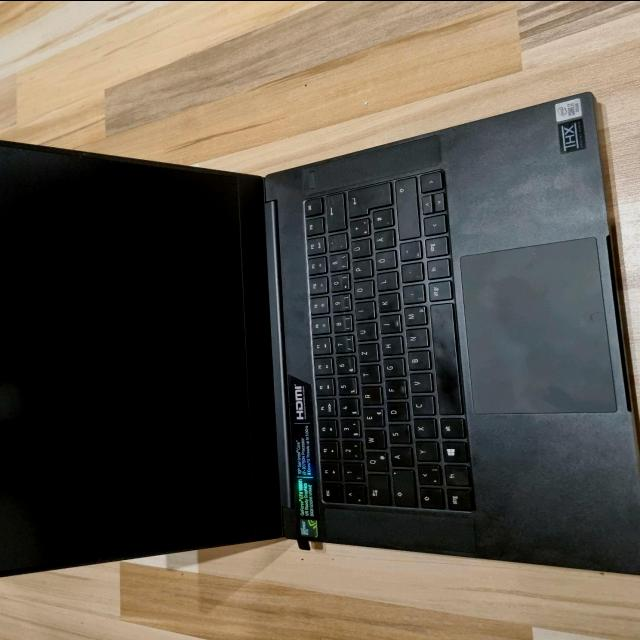0: (327, 274, 348, 292)
1: (340, 464, 362, 483)
2: (339, 441, 361, 461)
3: (337, 420, 359, 439)
4: (335, 398, 357, 417)
5: (335, 377, 356, 396)
6: (333, 357, 353, 375)
7: (331, 336, 353, 354)
8: (329, 315, 351, 333)
9: (328, 294, 349, 313)
a: (387, 448, 411, 468)
accent: (325, 233, 345, 252)
ae: (371, 230, 393, 250)
alt-left: (437, 418, 463, 440)
altgr-right: (425, 281, 450, 303)
b: (404, 351, 428, 371)
c: (408, 396, 433, 417)
caret: (341, 485, 363, 505)
comma: (399, 285, 423, 305)
d: (383, 403, 407, 423)
del: (323, 194, 343, 232)
e: (359, 408, 381, 428)
enter: (344, 183, 390, 219)
f: (381, 381, 405, 401)
g: (380, 359, 402, 379)
h: (378, 337, 400, 357)
hash: (369, 209, 391, 229)
i: (351, 302, 372, 321)
j: (375, 316, 399, 335)
k: (375, 294, 397, 314)
keyboard: (293, 154, 481, 526)
l: (373, 273, 395, 292)
less: (414, 465, 440, 487)
m: (401, 307, 425, 327)
minus: (397, 241, 419, 262)
n: (403, 329, 427, 349)
o: (350, 281, 371, 300)
oe: (372, 251, 394, 270)
p: (349, 260, 371, 279)
plus: (346, 219, 367, 239)
point: (398, 264, 422, 284)
q: (363, 452, 385, 473)
r: (358, 386, 380, 406)
s: (385, 425, 409, 445)
shift-left: (417, 488, 441, 510)
shift-lock: (390, 470, 414, 508)
shift-right: (393, 178, 417, 241)
space: (427, 303, 460, 416)
ss: (326, 253, 347, 272)
strg-left: (444, 489, 471, 513)
strg-right: (422, 237, 447, 259)
t: (356, 366, 378, 385)
tab: (365, 475, 387, 507)
u: (353, 323, 375, 342)
ue: (348, 239, 369, 258)
v: (406, 373, 430, 393)
w: (361, 430, 383, 450)
x: (410, 419, 434, 440)
y: (413, 442, 437, 462)
z: (354, 344, 376, 363)
